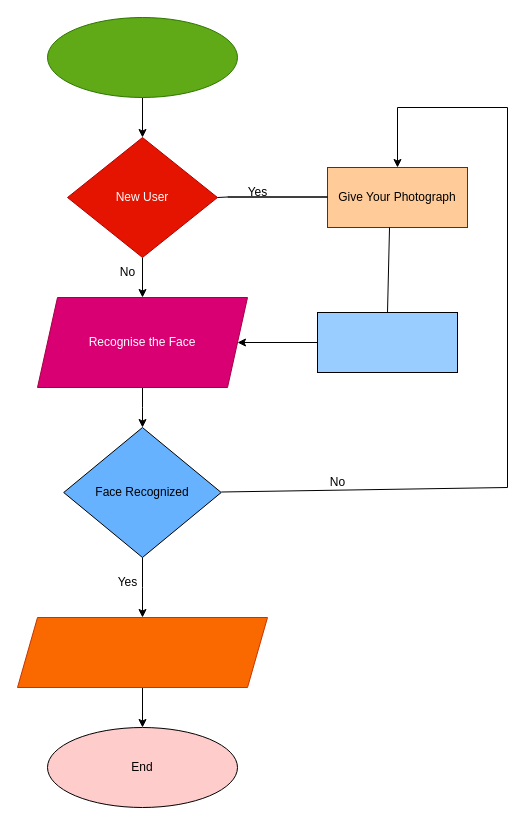
This 526x825 diagram has some shape labels left out. The centre of each missing label's shape, as x and y in pixels:
"Start" belongs at point (142, 57).
"Store the face Data in folder on your name" belongs at point (387, 342).
"Stored in the CSV file Registration Number and Date and Time of Entry" belongs at point (142, 652).
